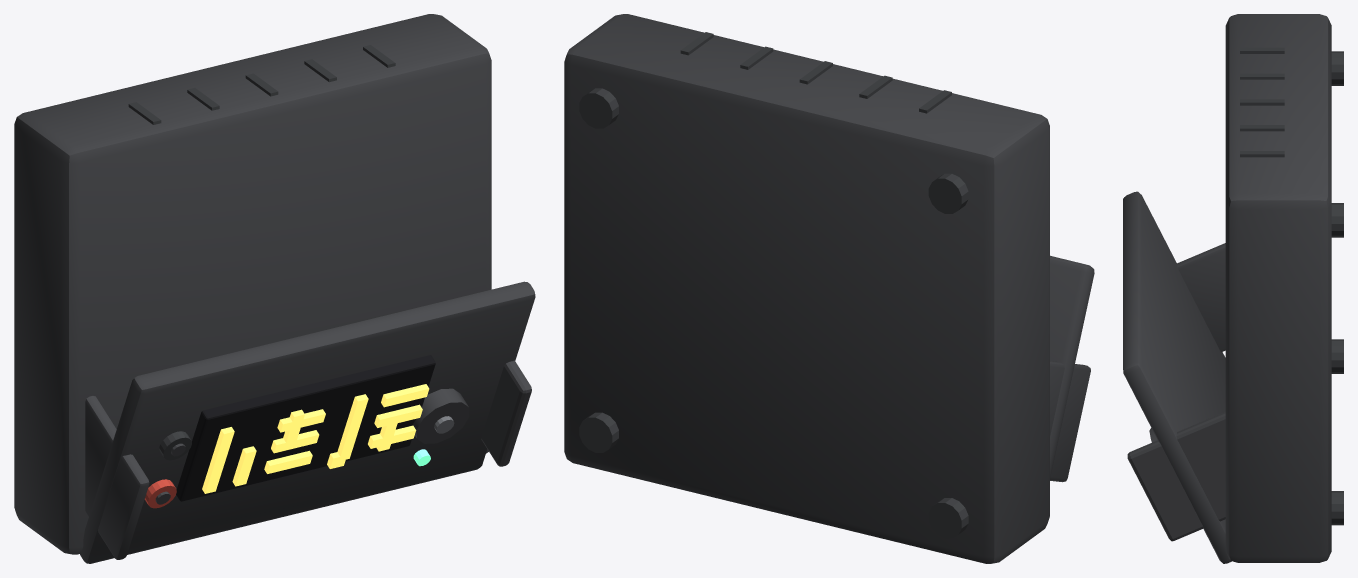
Rendered from VOLTMETER.glb.
3 views of the same model, side by side, from view 1: azimuth 30°, elevation 25°; view 2: azimuth 150°, elevation 25°; view 3: azimuth 270°, elevation 25° (orthographic). The views are drawn at different scales.
Visible parts, largest first — view 1: VM_case, VM_panel, VM_window, VM_cheek, VM_cheek.001, VM_knob, VM_seg.004, VM_seg.008, VM_seg.009; view 2: VM_case, VM_panel, VM_cheek, VM_foot.001, VM_foot, VM_foot.003, VM_foot.002; view 3: VM_case, VM_panel, VM_cheek.001, VM_cheek, VM_foot, VM_foot.001, VM_foot.003, VM_foot.002, VM_vent, VM_vent.001, VM_vent.002, VM_vent.003 (+1 smaller).
Part boxes in pixels (left/top/right/bottom): VM_case: left=14, top=14, right=491, bottom=554; VM_panel: left=80, top=281, right=535, bottom=563; VM_window: left=176, top=355, right=435, bottom=501; VM_cheek: left=85, top=396, right=149, bottom=559; VM_cheek.001: left=481, top=360, right=531, bottom=466; VM_knob: left=413, top=388, right=469, bottom=443; VM_seg.004: left=264, top=450, right=312, bottom=473; VM_seg.008: left=381, top=384, right=429, bottom=407; VM_seg.009: left=374, top=404, right=422, bottom=427; VM_case: left=564, top=14, right=1049, bottom=563; VM_panel: left=1050, top=255, right=1094, bottom=477; VM_cheek: left=1050, top=361, right=1090, bottom=482; VM_foot.001: left=928, top=173, right=968, bottom=213; VM_foot: left=928, top=498, right=968, bottom=538; VM_foot.003: left=579, top=88, right=618, bottom=128; VM_foot.002: left=579, top=412, right=618, bottom=452; VM_case: left=1225, top=14, right=1331, bottom=562; VM_panel: left=1123, top=191, right=1231, bottom=563; VM_cheek.001: left=1127, top=411, right=1225, bottom=541; VM_cheek: left=1177, top=243, right=1225, bottom=352; VM_foot: left=1331, top=339, right=1343, bottom=373; VM_foot.001: left=1331, top=51, right=1343, bottom=85; VM_foot.003: left=1331, top=203, right=1343, bottom=237; VM_foot.002: left=1331, top=491, right=1343, bottom=525; VM_vent: left=1240, top=47, right=1284, bottom=53; VM_vent.001: left=1240, top=73, right=1284, bottom=79; VM_vent.002: left=1240, top=99, right=1284, bottom=105; VM_vent.003: left=1240, top=125, right=1284, bottom=131.
Size of the model in its own units: 0.22 by 0.2044 by 0.1084.
